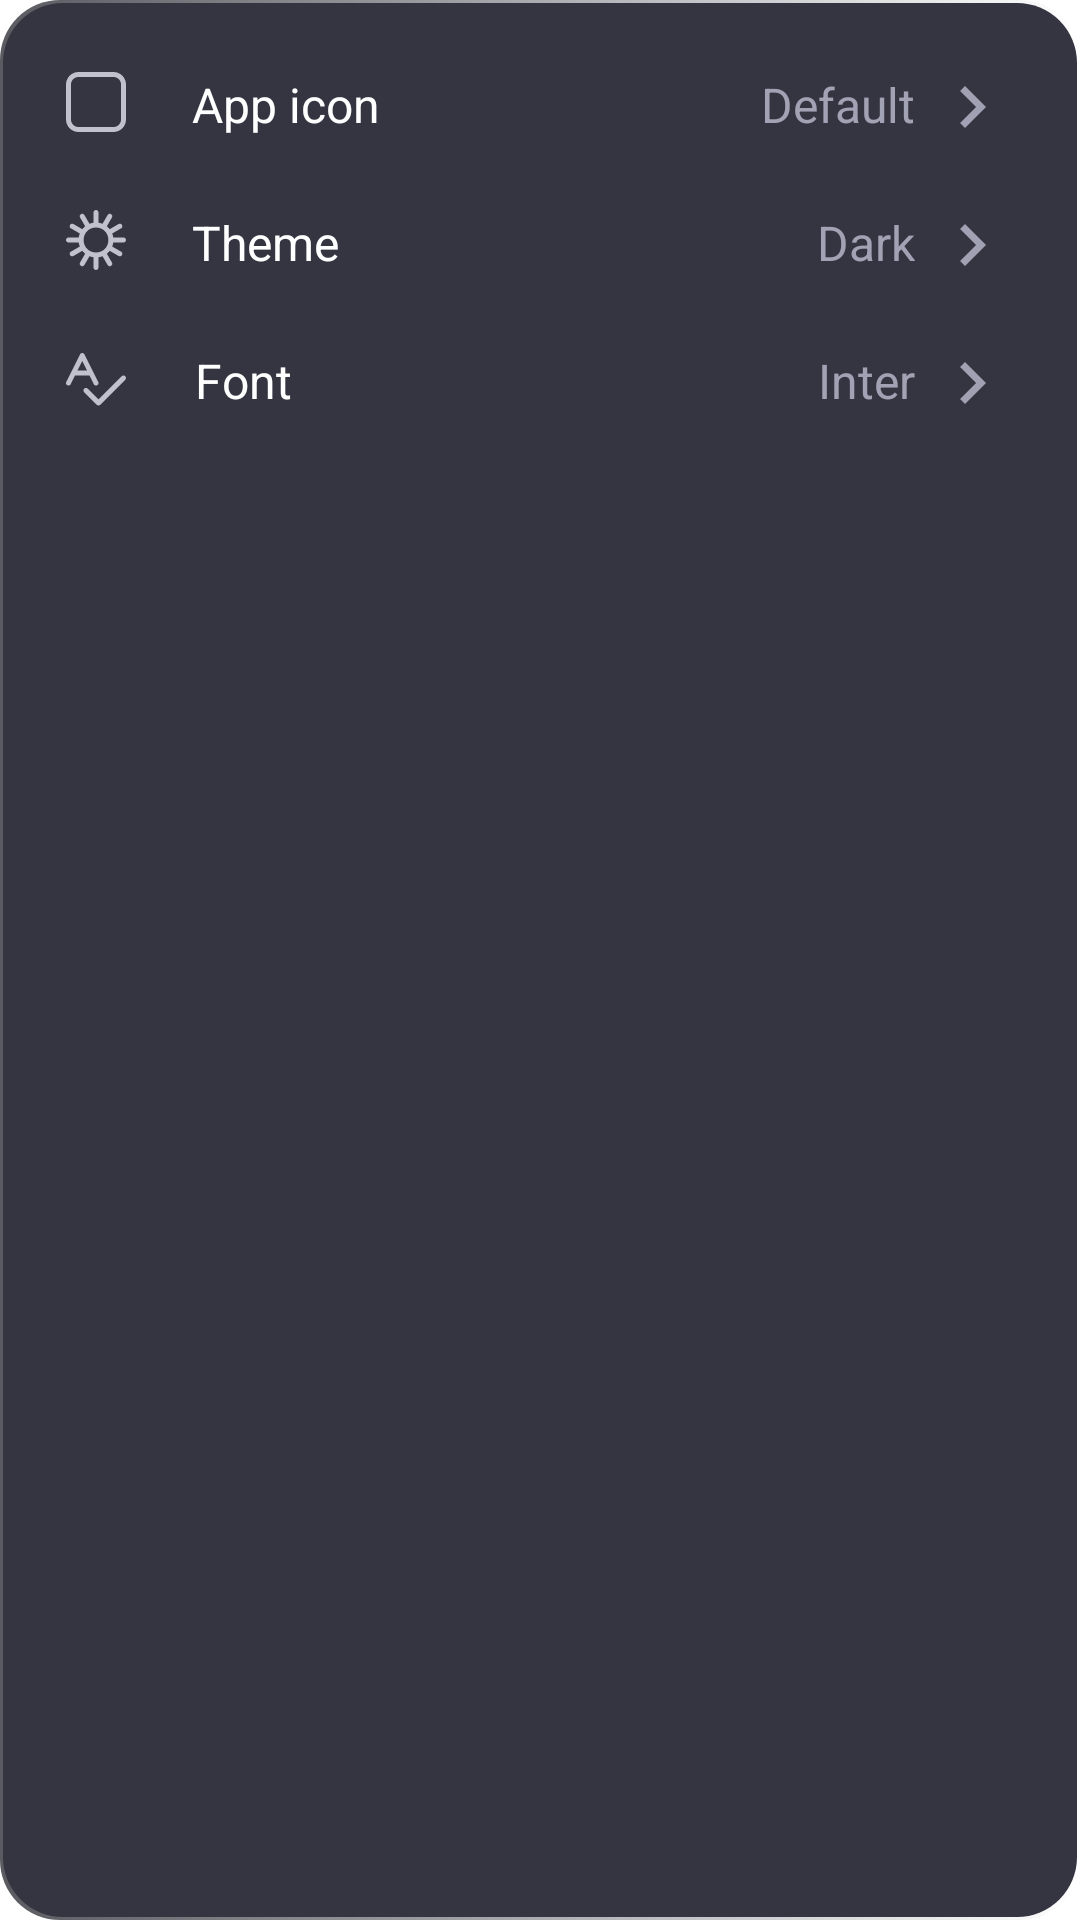

Point at icon controls on the screen. Image size 1080 × 1920, points as [x,y].
right: [973,107], [973,245], [973,383]
